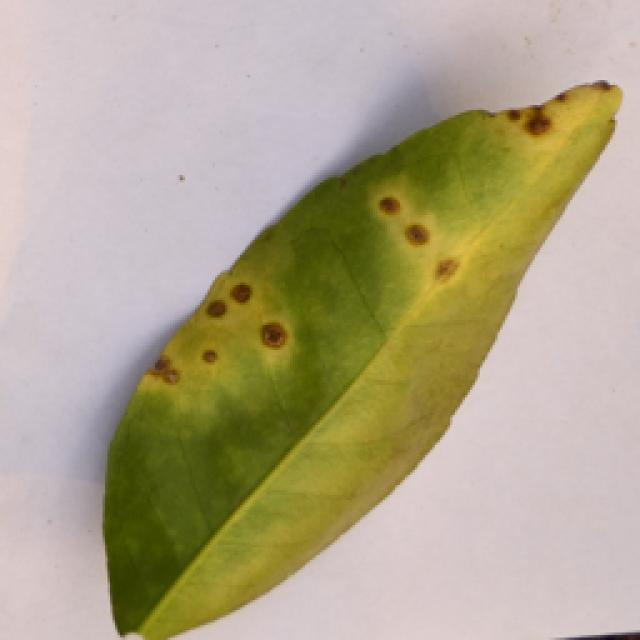canker: (138, 62, 627, 462)
